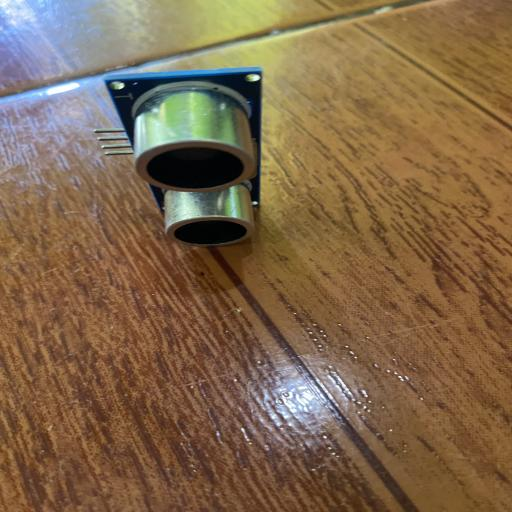Ultrasonic Sensor: (92, 67, 264, 246)
